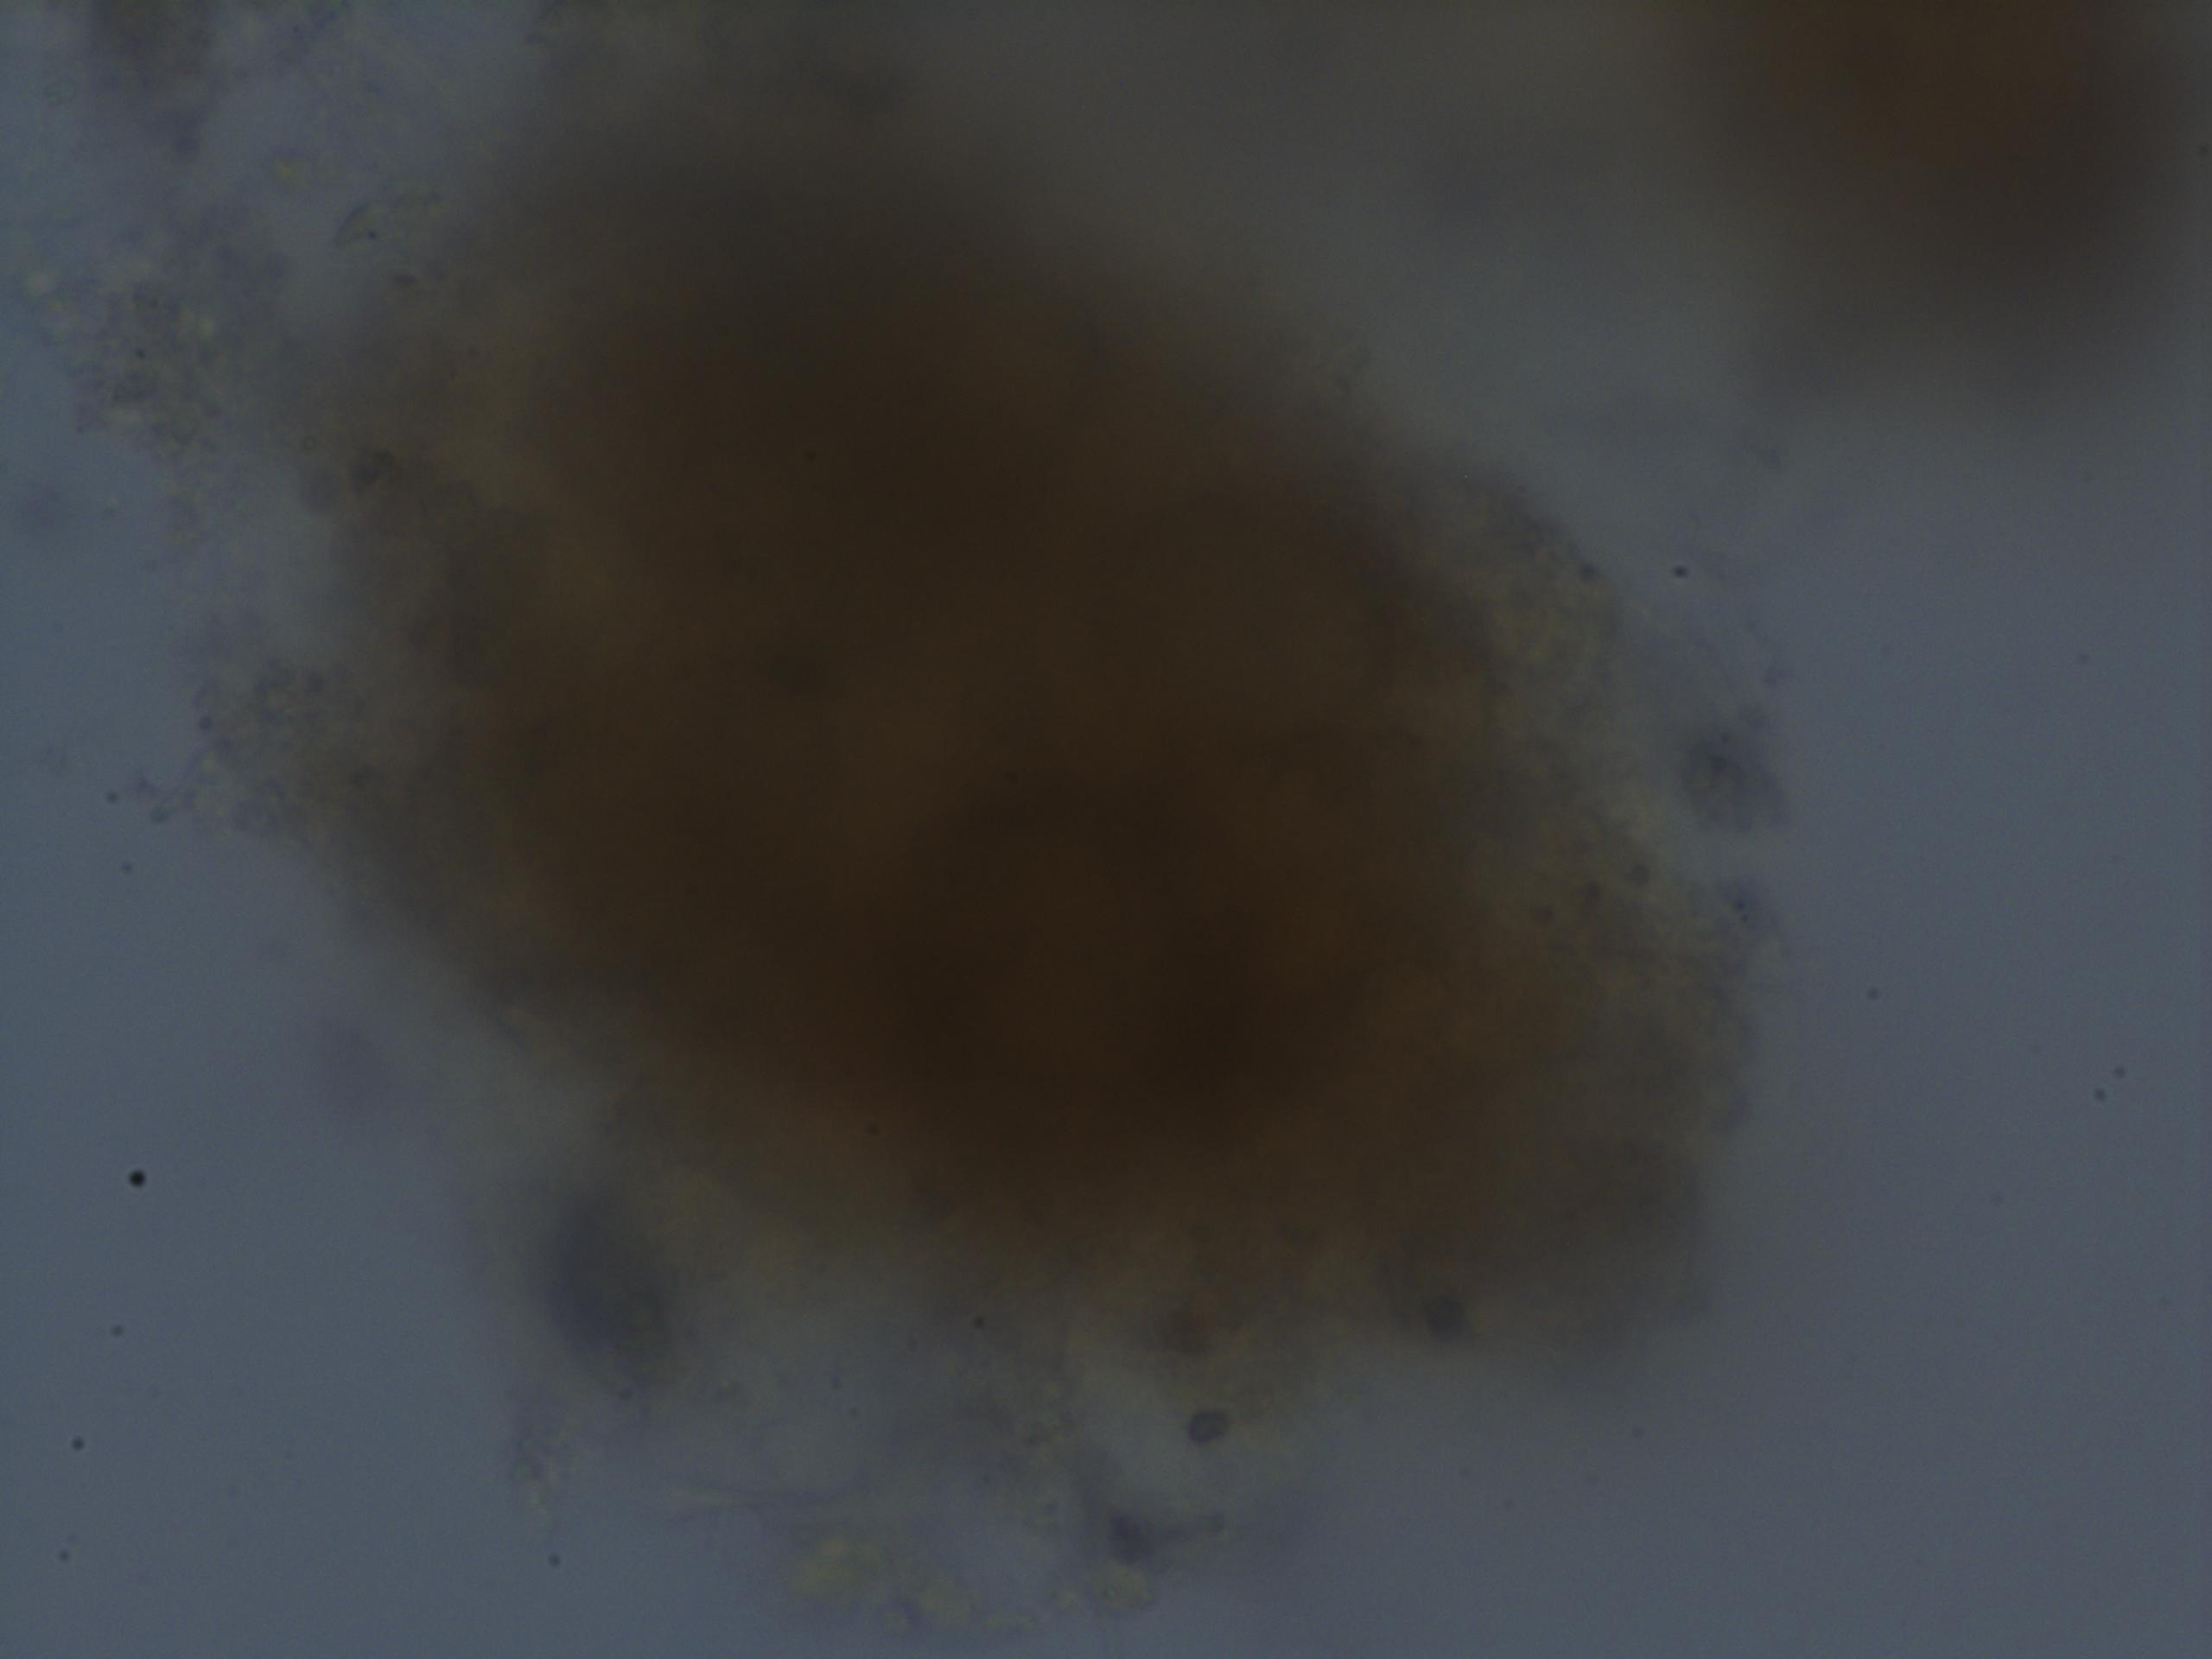spherical_floc: (246, 78, 1791, 1431)
